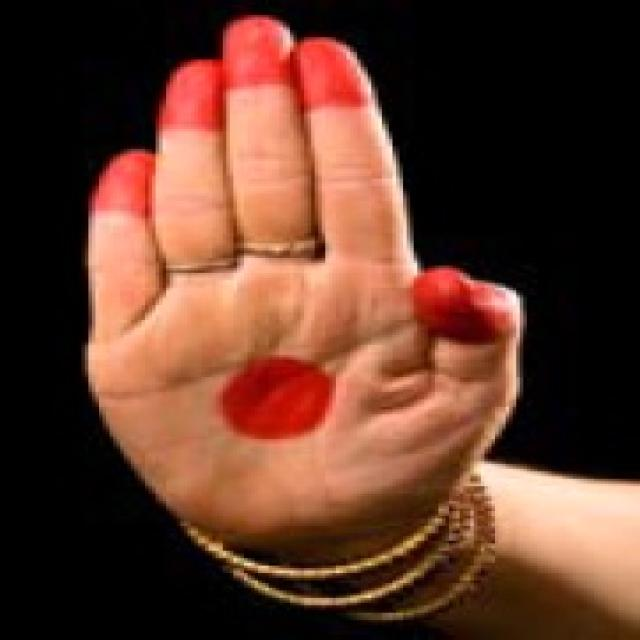Pataka: (48, 4, 553, 596)
